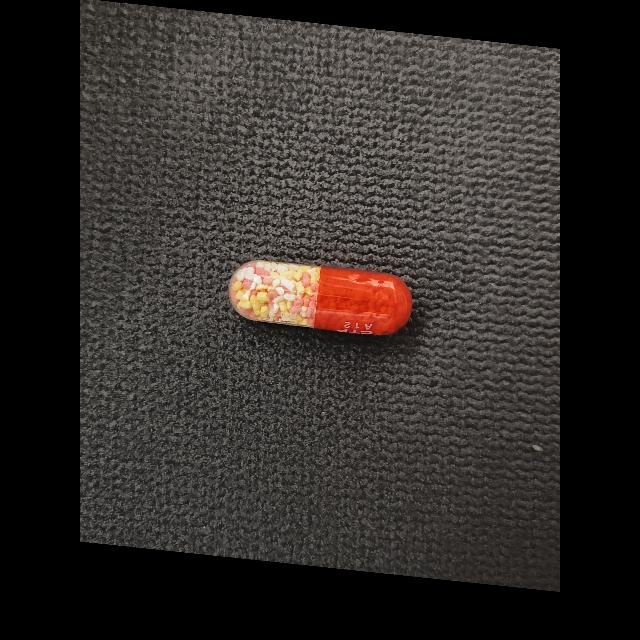Intact Capsule: (229, 260, 412, 336)
